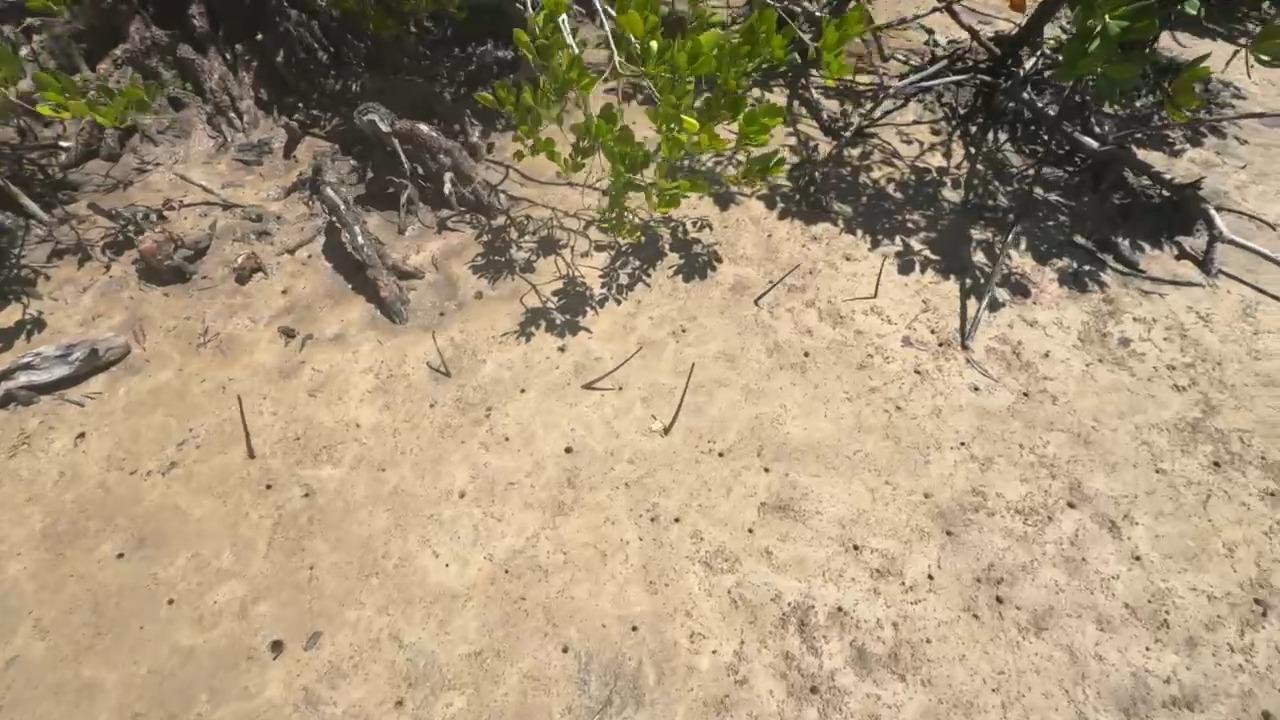Tree: (582, 347, 644, 388), (662, 362, 696, 436), (753, 265, 802, 303), (237, 394, 257, 460), (431, 332, 452, 378), (873, 256, 887, 297)
